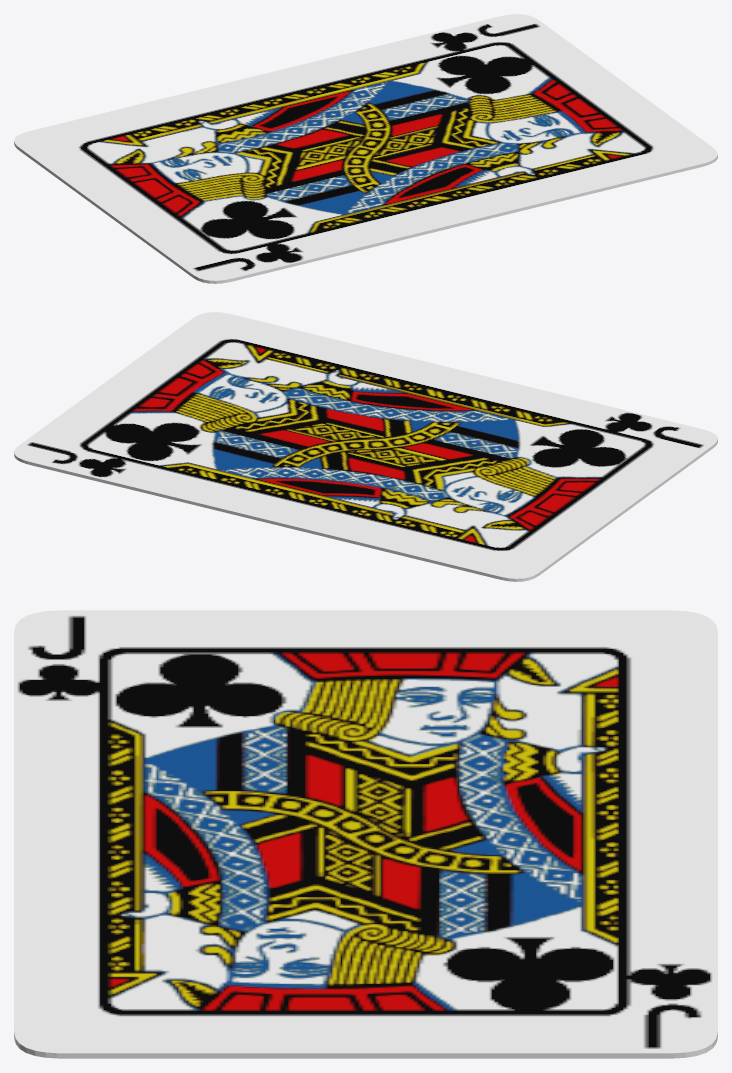
Rendered from jack_of_clubs.gltf.
3 views of the same model, one above another, from view 1: azimuth 30°, elevation 25°; view 2: azimuth 150°, elevation 25°; view 3: azimuth 270°, elevation 25° (orthographic). The views are drawn at different scales.
Parts seen in each view (by area): view 1: Plane; view 2: Plane; view 3: Plane.
Boxes of the visible parts, box(x1,y1,x2,y2) form: Plane: box(14, 14, 717, 283); Plane: box(14, 312, 717, 581); Plane: box(14, 610, 717, 1058).
Bounding box in the file's own units: 0.09 × 0.0005 × 0.0605.
1 material, 1 textured.
